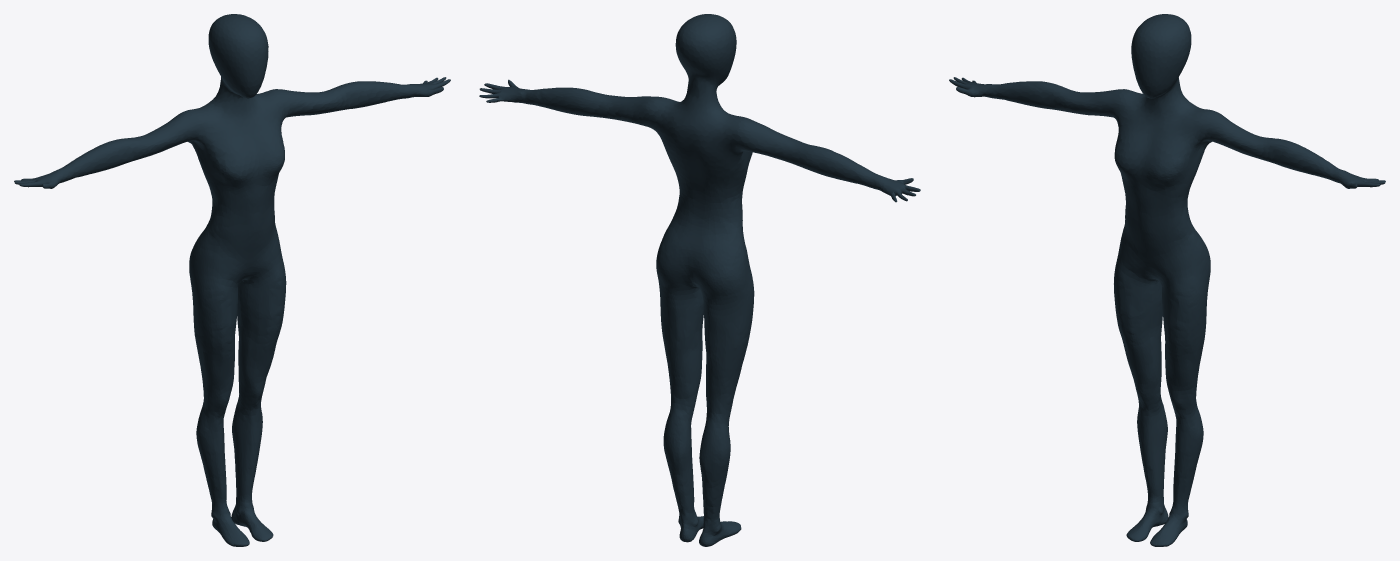
Rendered from xCorundum4.glb.
3 renders of one model, left to right at view 1: azimuth 30°, elevation 25°; view 2: azimuth 150°, elevation 25°; view 3: azimuth 330°, elevation 25°, orthographic.
Parts seen in each view (by area): view 1: Cube.001; view 2: Cube.001; view 3: Cube.001.
Part boxes in pixels (x1,y1,x2,y2): Cube.001: (14, 14, 450, 546); Cube.001: (479, 14, 920, 546); Cube.001: (949, 14, 1385, 546).
Size of the model in its own units: 1.76 by 2 by 0.2676.
